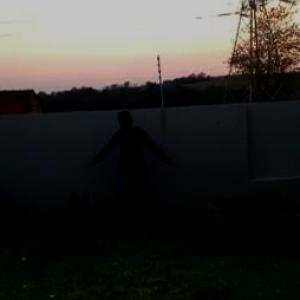land: (82, 104, 174, 233)
